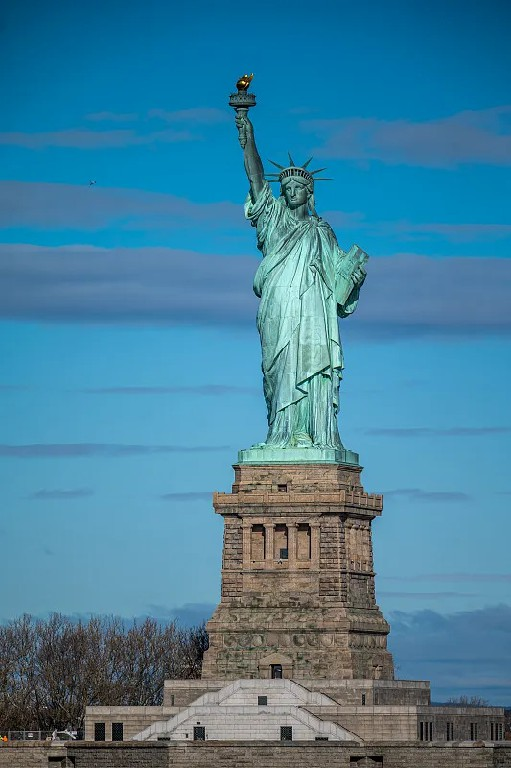SL: (200, 72, 395, 681)
